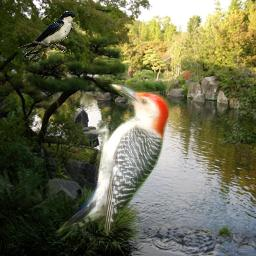Swallow: (18, 11, 75, 61)
Woodpecker: (51, 77, 169, 247)
